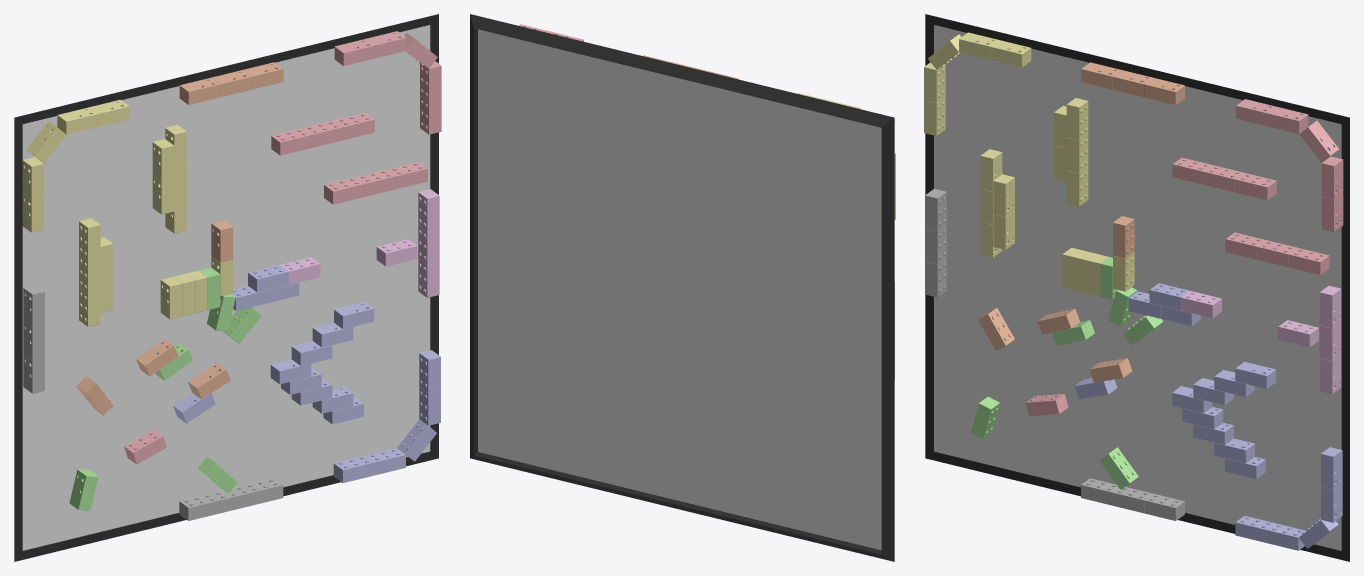
Rendered from Blend.fbx.
3 renders of one model, left to right at view 1: azimuth 30°, elevation 25°; view 2: azimuth 150°, elevation 25°; view 3: azimuth 330°, elevation 25°, orthographic.
Visible parts, largest first — view 1: Plane, Cube.073, Cube.041, Cube.044, Cube.039, Cube.030, Cube.045, Cube.012, Cube.053, Cube.035, Cube.058, Cube.064 (+59 smaller); view 2: Plane, Cube.073; view 3: Plane, Cube.073, Cube.049, Cube.061, Cube.009, Cube.042, Cube.048, Cube.040, Cube.055, Cube.047, Cube.016, Cube.028 (+59 smaller).
Part boxes in pixels (bbox=[...]): Plane: bbox=[22, 25, 430, 550]; Cube.073: bbox=[14, 14, 438, 561]; Cube.041: bbox=[69, 469, 98, 510]; Cube.044: bbox=[136, 339, 178, 376]; Cube.039: bbox=[188, 362, 230, 399]; Cube.030: bbox=[160, 277, 182, 319]; Cube.045: bbox=[124, 429, 166, 464]; Cube.012: bbox=[152, 139, 174, 181]; Cube.053: bbox=[26, 121, 65, 163]; Cube.035: bbox=[376, 239, 417, 266]; Cube.058: bbox=[397, 419, 436, 461]; Cube.064: bbox=[179, 77, 220, 104]; Plane: bbox=[478, 29, 881, 550]; Cube.073: bbox=[470, 14, 894, 561]; Plane: bbox=[934, 25, 1341, 550]; Cube.073: bbox=[925, 14, 1349, 561]; Cube.049: bbox=[1321, 156, 1343, 198]; Cube.061: bbox=[1319, 285, 1341, 328]; Cube.009: bbox=[1066, 98, 1088, 140]; Cube.042: bbox=[978, 308, 1014, 350]; Cube.048: bbox=[1299, 120, 1339, 162]; Cube.040: bbox=[1099, 447, 1138, 489]; Cube.055: bbox=[990, 40, 1031, 67]; Cube.047: bbox=[1267, 107, 1308, 133]; Cube.016: bbox=[993, 174, 1014, 216]; Cube.028: bbox=[1113, 216, 1134, 258].
Bounding box in the file's own units: 10200 × 10200 × 584.
